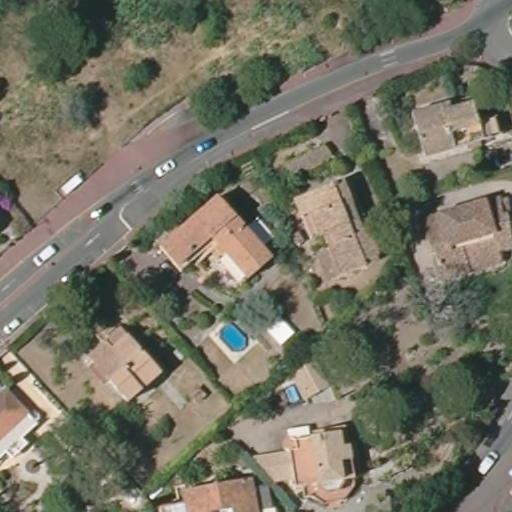pool: (217, 321, 248, 351), (282, 382, 300, 403)
